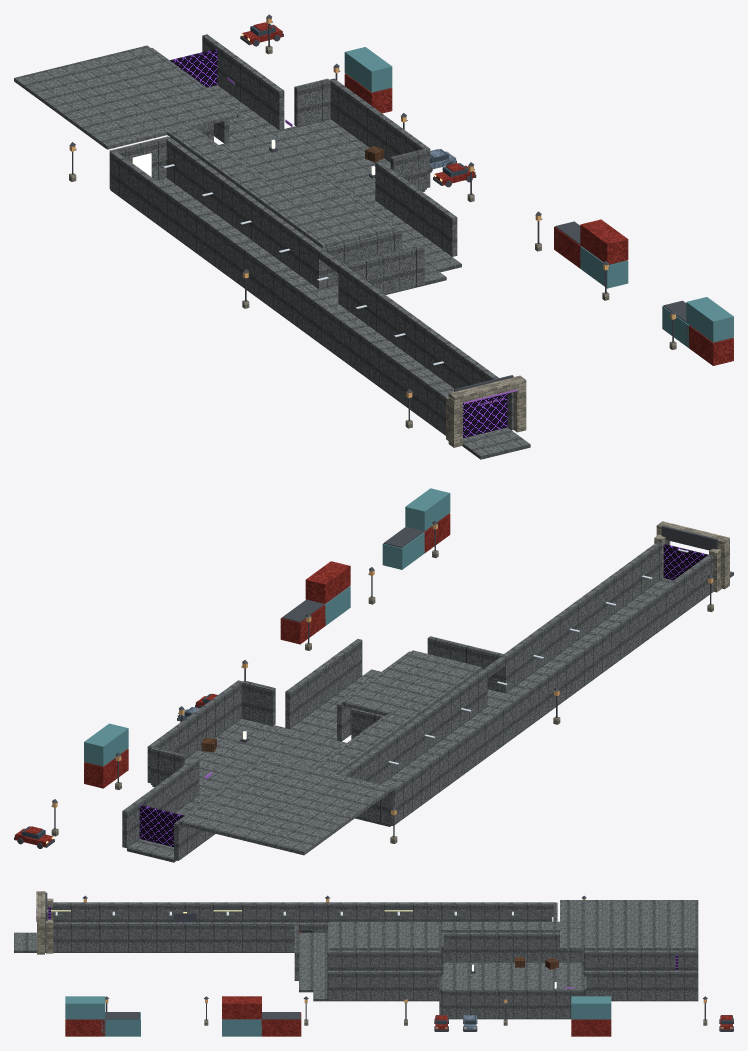
Rendered from MB_Route_C.fbx.
3 views of the same model, one above another, from view 1: azimuth 30°, elevation 25°; view 2: azimuth 150°, elevation 25°; view 3: azimuth 270°, elevation 25° (orthographic). The views are drawn at different scales.
Visible parts, largest first — view 1: MB_Route_C_Dressing_3_0, MB_Route_C_Dressing_4_0, MB_Route_C_Dressing_2_0, MB_Route_C_Dressing_1_0, MB_Route_C_Dressing_3_1, Floor_C_CombatPocket, Floor_C_EscapeGallery, MB_Route_C_Dressing_4_1, Floor_C_Main, MB_Route_C_Dressing_2_1, MB_Route_C_Dressing_0_0, MB_Route_C_Dressing_2_1.002 (+7 smaller); view 2: MB_Route_C_Dressing_3_0, MB_Route_C_Dressing_4_0, MB_Route_C_Dressing_3_1, MB_Route_C_Dressing_2_0, MB_Route_C_Dressing_1_0, Floor_C_CombatPocket, MB_Route_C_Dressing_4_1, Floor_C_EscapeGallery, Floor_C_Main, MB_Route_C_Dressing_2_1.002, MB_Route_C_Dressing_1_1.001, MB_Route_C_Dressing_2_1 (+7 smaller); view 3: MB_Route_C_Dressing_3_0, MB_Route_C_Dressing_3_1, MB_Route_C_Dressing_1_0, MB_Route_C_Dressing_4_0, MB_Route_C_Dressing_2_0, MB_Route_C_Dressing_4_1, Floor_C_CombatPocket, Floor_C_EscapeGallery, MB_Route_C_Dressing_2_1.002, MB_Route_C_Dressing_1_1.001, Floor_C_Main, Floor_C_SideOpening (+10 smaller).
Boxes of the visible parts, left/top/right/bottom form: MB_Route_C_Dressing_3_0: left=110, top=114, right=395, bottom=274; MB_Route_C_Dressing_4_0: left=14, top=45, right=240, bottom=188; MB_Route_C_Dressing_2_0: left=225, top=222, right=400, bottom=358; MB_Route_C_Dressing_1_0: left=341, top=306, right=513, bottom=435; MB_Route_C_Dressing_3_1: left=324, top=78, right=457, bottom=256; Floor_C_CombatPocket: left=219, top=119, right=425, bottom=200; Floor_C_EscapeGallery: left=207, top=85, right=461, bottom=272; MB_Route_C_Dressing_4_1: left=151, top=34, right=330, bottom=143; Floor_C_Main: left=156, top=178, right=530, bottom=459; MB_Route_C_Dressing_2_1: left=318, top=228, right=424, bottom=305; MB_Route_C_Dressing_0_0: left=448, top=375, right=526, bottom=447; MB_Route_C_Dressing_2_1.002: left=554, top=219, right=628, bottom=268; MB_Route_C_Dressing_3_0: left=298, top=650, right=503, bottom=824; MB_Route_C_Dressing_4_0: left=178, top=757, right=394, bottom=855; MB_Route_C_Dressing_3_1: left=147, top=639, right=407, bottom=783; MB_Route_C_Dressing_2_0: left=447, top=616, right=611, bottom=745; MB_Route_C_Dressing_1_0: left=556, top=540, right=713, bottom=665; Floor_C_CombatPocket: left=152, top=718, right=346, bottom=797; MB_Route_C_Dressing_4_1: left=122, top=747, right=247, bottom=860; Floor_C_EscapeGallery: left=127, top=669, right=380, bottom=862; Floor_C_Main: left=355, top=571, right=733, bottom=826; MB_Route_C_Dressing_2_1.002: left=280, top=561, right=350, bottom=644; MB_Route_C_Dressing_1_1.001: left=382, top=488, right=450, bottom=569; MB_Route_C_Dressing_2_1: left=407, top=636, right=508, bottom=692; MB_Route_C_Dressing_3_0: left=329, top=902, right=584, bottom=962; MB_Route_C_Dressing_3_1: left=327, top=934, right=584, bottom=1018; MB_Route_C_Dressing_1_0: left=45, top=902, right=213, bottom=952; MB_Route_C_Dressing_4_0: left=553, top=900, right=698, bottom=950; MB_Route_C_Dressing_2_0: left=213, top=902, right=384, bottom=952; MB_Route_C_Dressing_4_1: left=582, top=950, right=698, bottom=1000; Floor_C_CombatPocket: left=441, top=962, right=584, bottom=1019; Floor_C_EscapeGallery: left=313, top=981, right=697, bottom=1001; MB_Route_C_Dressing_2_1.002: left=222, top=996, right=301, bottom=1036; MB_Route_C_Dressing_1_1.001: left=65, top=996, right=140, bottom=1036; Floor_C_Main: left=14, top=932, right=327, bottom=952; Floor_C_SideOpening: left=299, top=941, right=327, bottom=992.
Size of the model in its own units: 3775 by 631 by 10102.
Materials: 18 (8 with a texture image).
